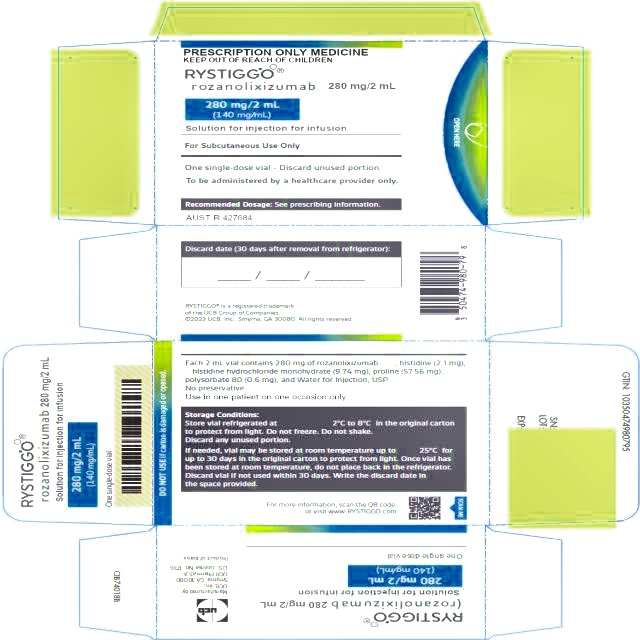Artwork: (0, 0, 640, 640)
Back_Panel: (152, 341, 490, 525)
Bottom_Part: (490, 342, 640, 525)
Extra_Areas: (56, 40, 155, 226), (487, 40, 585, 225), (157, 6, 487, 41), (75, 227, 157, 341), (486, 226, 565, 342), (485, 525, 564, 640), (78, 527, 156, 640)
Front_Panel: (154, 41, 488, 226)
Side_Panel: (157, 225, 486, 341), (156, 525, 485, 640)
Top_Panel: (3, 341, 153, 527)
